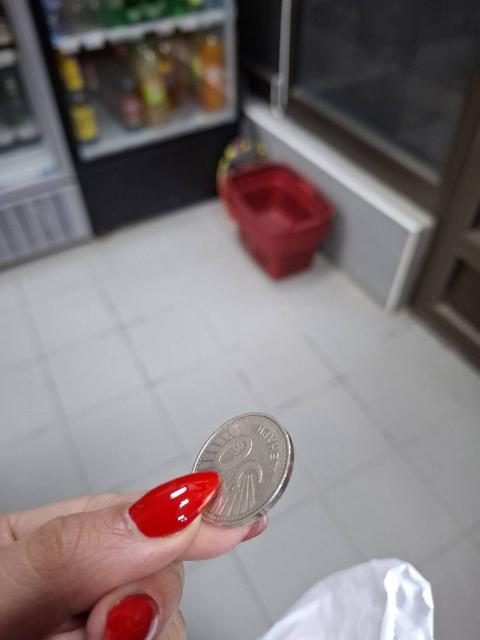50_coin: (186, 413, 295, 526)
